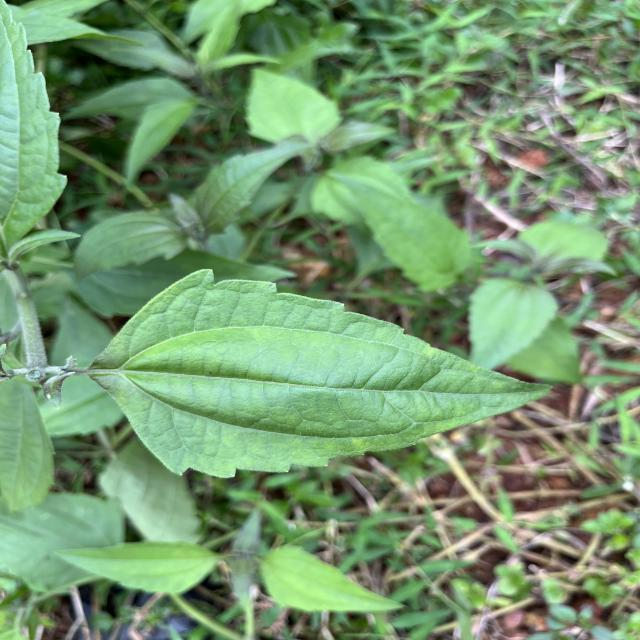Chromolaena odorata: (82, 264, 560, 486)
